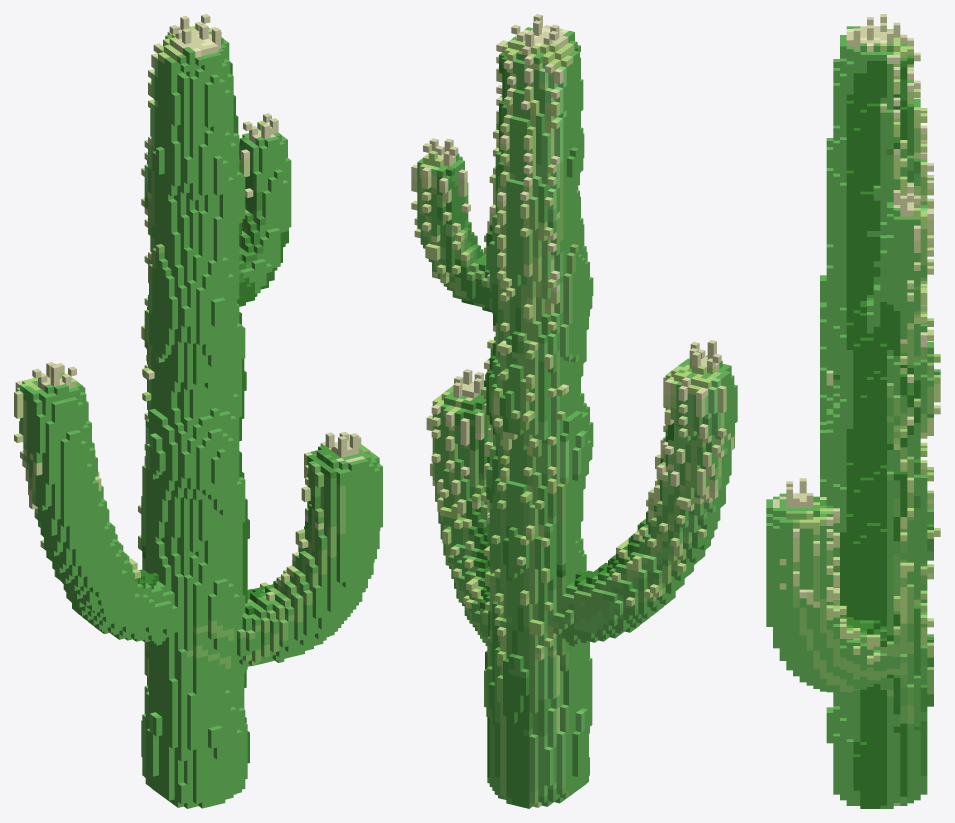
Rendered from flag.FBX.
The picture shows the model from 3 angles, left to right: view 1: azimuth 30°, elevation 25°; view 2: azimuth 150°, elevation 25°; view 3: azimuth 270°, elevation 25°; orthographic projection.
Visible parts, largest first — view 1: default047; view 2: default047; view 3: default047.
Boxes of the visible parts, box(x1,y1,x2,y2) form: default047: box(14, 14, 382, 808); default047: box(411, 14, 737, 808); default047: box(766, 14, 940, 808).
Size of the model in its own units: 968 by 2178 by 449.
